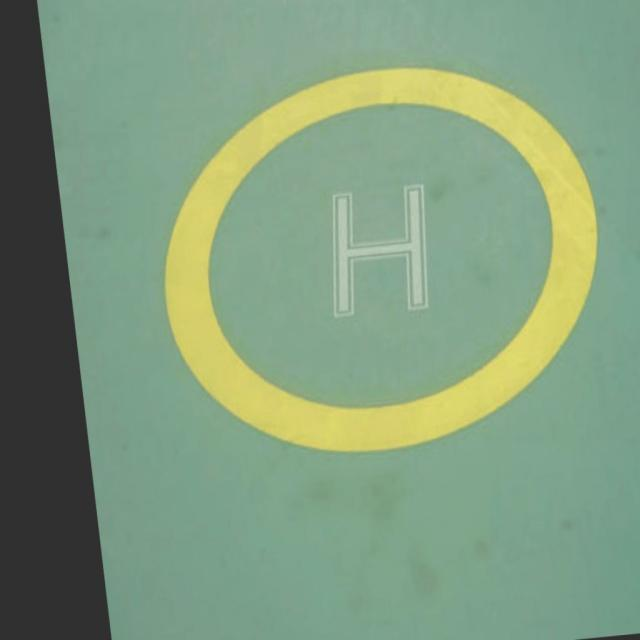helipad: (150, 62, 606, 458)
